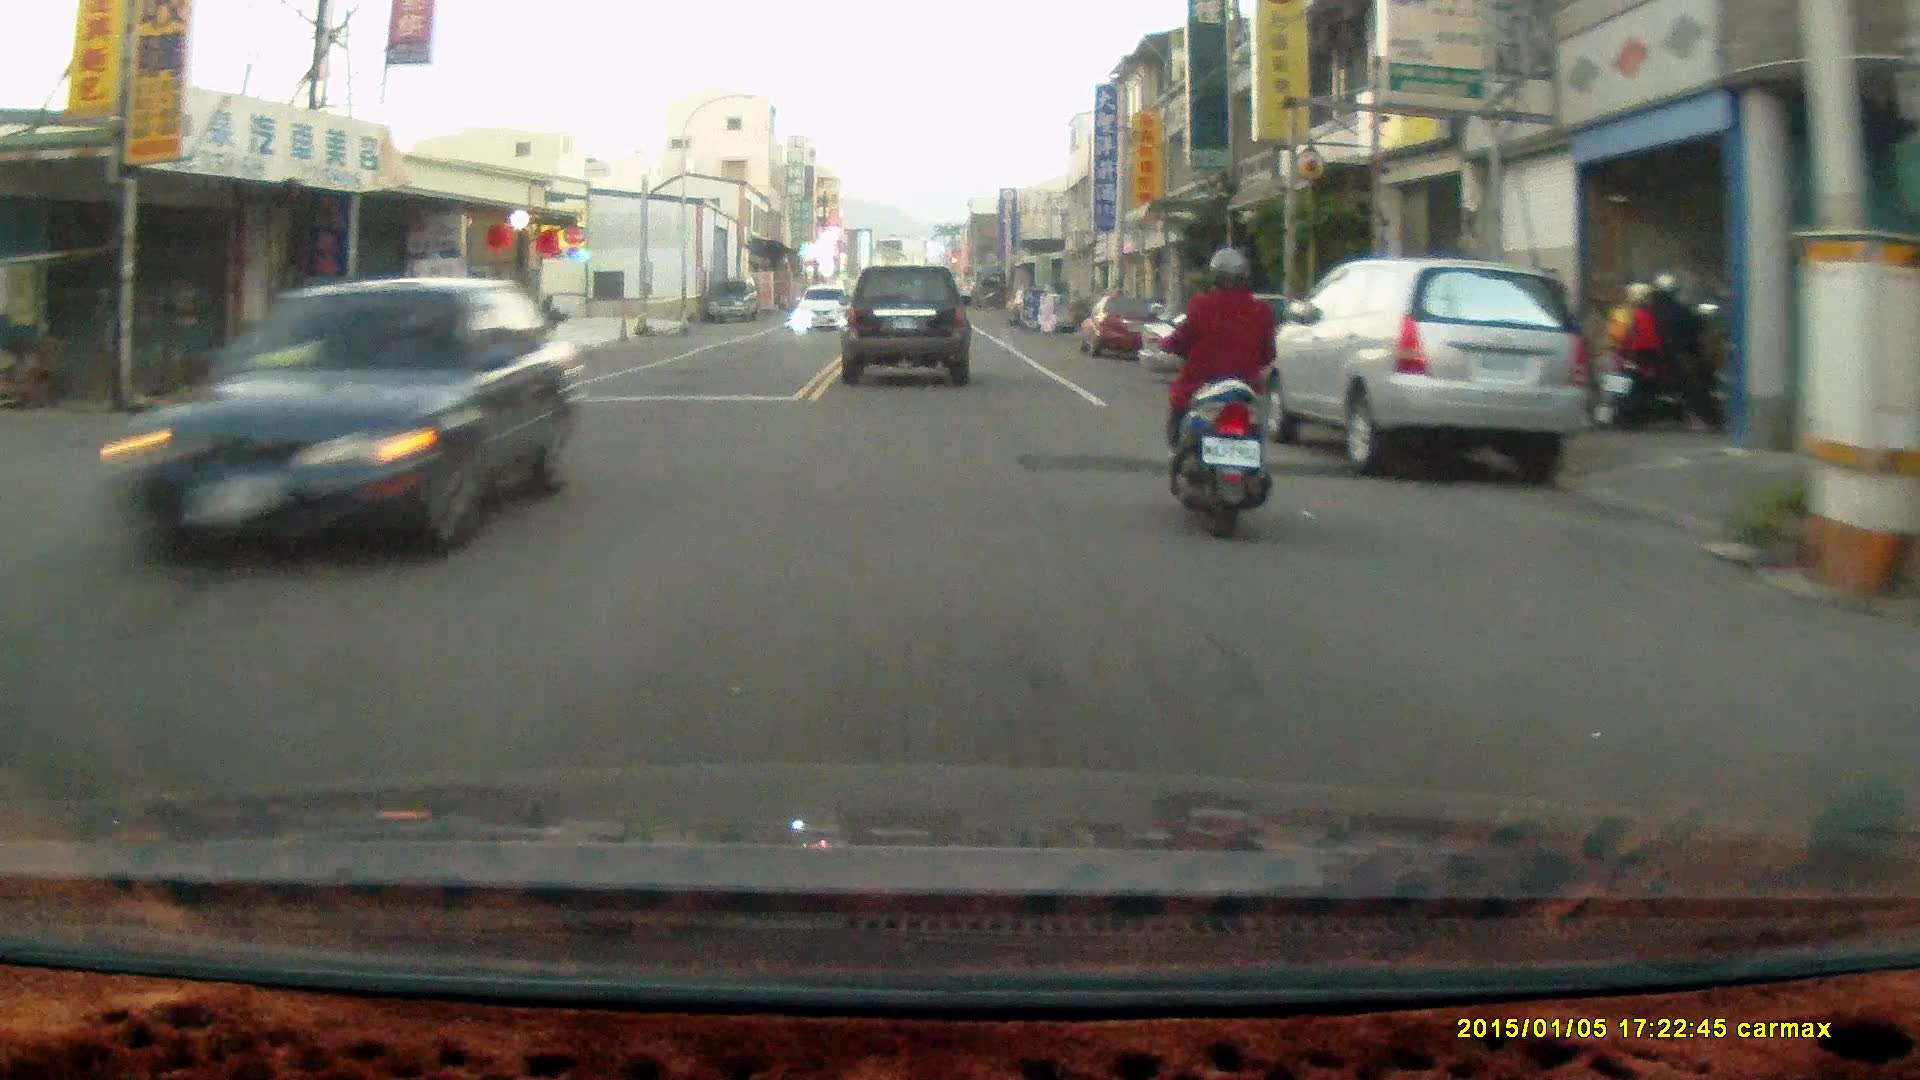rider: (1150, 246, 1275, 543), (1603, 268, 1724, 435)
vehicle: (118, 277, 583, 567), (1265, 256, 1589, 473), (841, 261, 974, 387), (1080, 296, 1163, 362), (792, 285, 849, 332)
